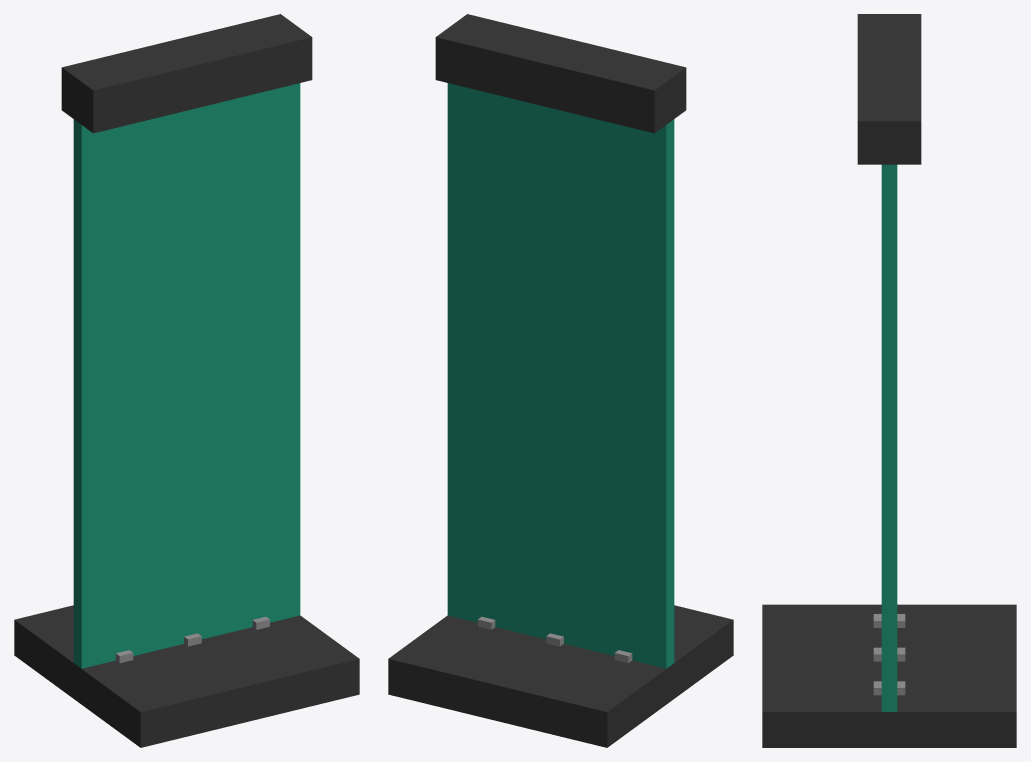
The model's file is Portal_1.2.1.obj.
The picture shows the model from 3 angles, left to right: view 1: azimuth 30°, elevation 25°; view 2: azimuth 150°, elevation 25°; view 3: azimuth 270°, elevation 25°; orthographic projection.
Size of the model in its own units: 3.2 by 8.7 by 3.2.
Materials: 1 (1 with a texture image).
